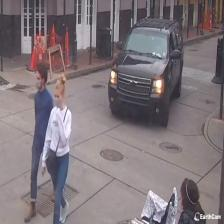person: (24, 65, 54, 222), (42, 74, 71, 224), (178, 178, 205, 224)
